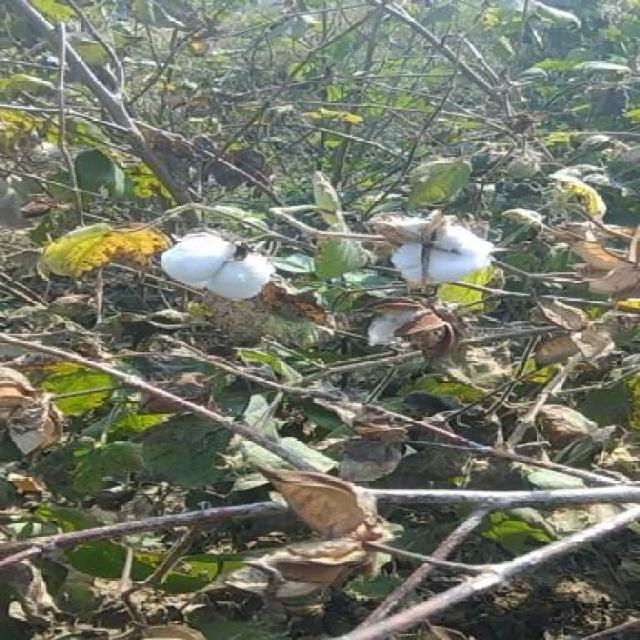cotton_ready: (120, 211, 302, 315), (370, 206, 502, 286)
